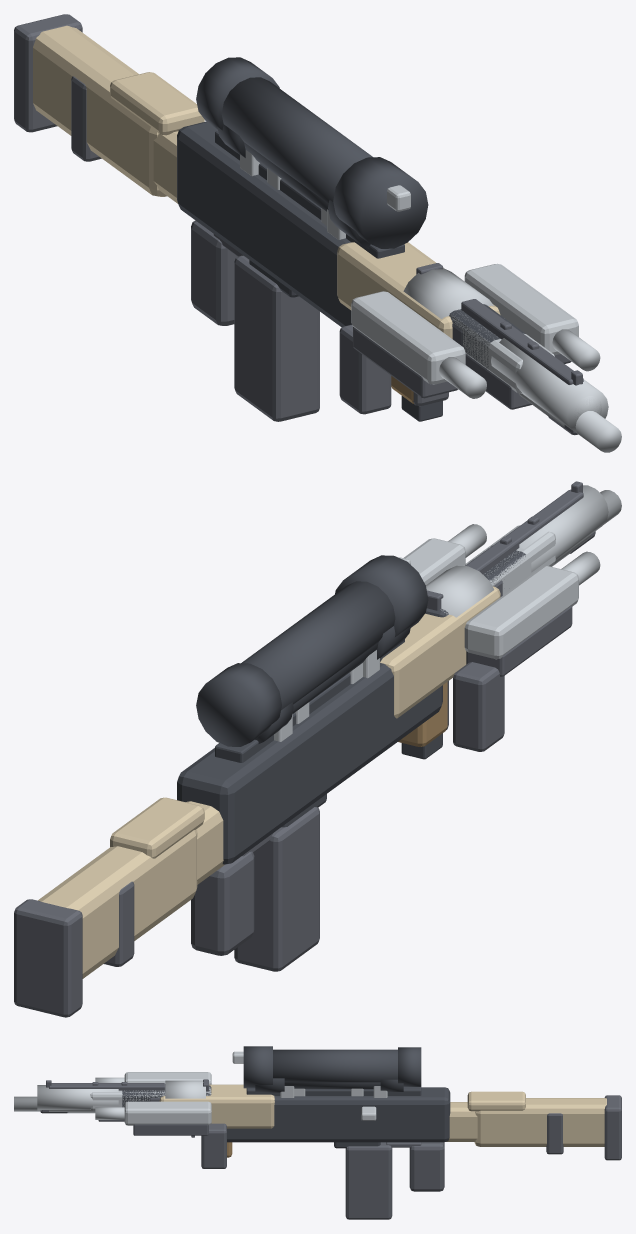
Rendered from weapons.glb.
3 renders of one model, top to bottom at view 1: azimuth 30°, elevation 25°; view 2: azimuth 150°, elevation 25°; view 3: azimuth 270°, elevation 25°, orthographic. The views are drawn at different scales.
Parts seen in each view (by area): view 1: scar, duals, ssg, r8, usp, deagle, glock; view 2: scar, duals, ssg, r8, usp, deagle, glock; view 3: scar, duals, ssg, r8, usp, deagle, glock.
Part boxes in pixels (left/top/right/bottom): scar: left=14, top=14, right=577, bottom=435; duals: left=339, top=263, right=600, bottom=414; ssg: left=71, top=72, right=621, bottom=452; r8: left=391, top=263, right=601, bottom=419; usp: left=491, top=338, right=608, bottom=432; deagle: left=449, top=314, right=554, bottom=409; glock: left=401, top=272, right=525, bottom=421; scar: left=14, top=531, right=595, bottom=1017; duals: left=403, top=524, right=600, bottom=751; ssg: left=104, top=490, right=621, bottom=966; r8: left=398, top=481, right=583, bottom=746; usp: left=519, top=485, right=608, bottom=572; deagle: left=440, top=516, right=555, bottom=615; glock: left=401, top=536, right=525, bottom=759; scar: left=40, top=1046, right=621, bottom=1219; duals: left=95, top=1072, right=226, bottom=1168; ssg: left=14, top=1078, right=563, bottom=1154; r8: left=46, top=1079, right=232, bottom=1157; usp: left=37, top=1085, right=118, bottom=1110; deagle: left=90, top=1082, right=211, bottom=1121; glock: left=121, top=1082, right=211, bottom=1107.
Bounding box in the file's own units: 16 × 31.6 × 104.
